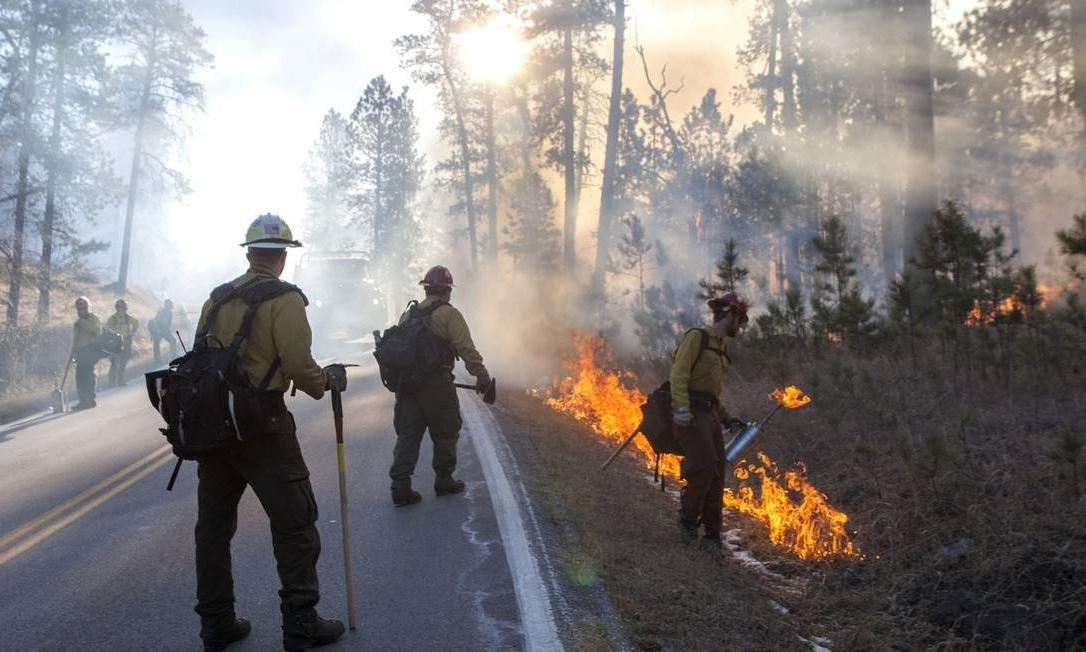Fire: (532, 343, 686, 481), (724, 449, 847, 561), (967, 277, 1065, 328), (777, 385, 812, 410)
